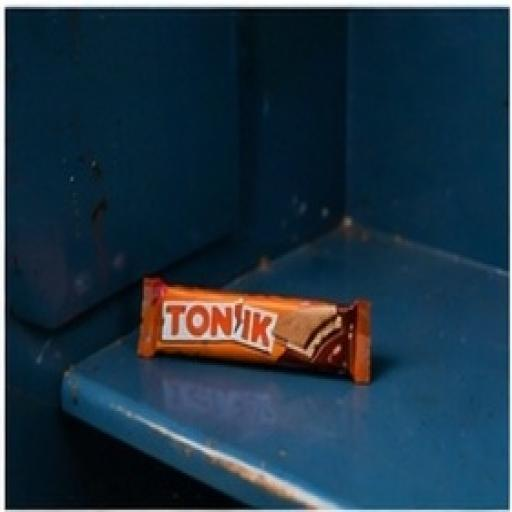tonik: (79, 175, 402, 438)
